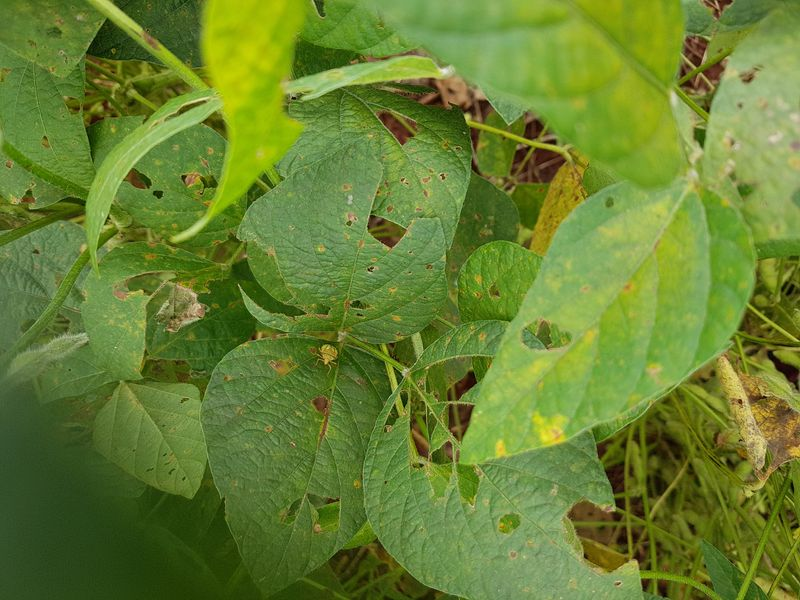Euschistus_heros_ninfa: (309, 338, 344, 376)
